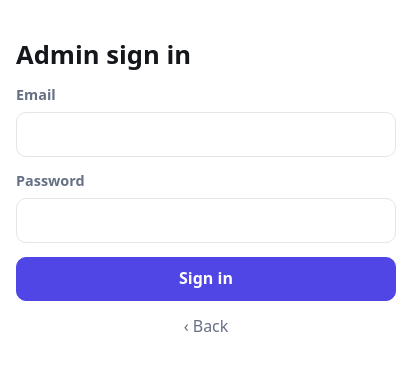
Test: admin sign-in › shows the error and lets you retry
Type "me@band.com" into the field labelled "Email" at x=206, y=134, box [16, 112, 396, 157]
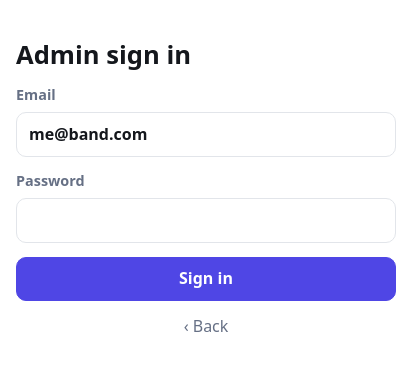
Type "wrong" into the password field labelled "Password" at x=206, y=220, box [16, 198, 396, 243]
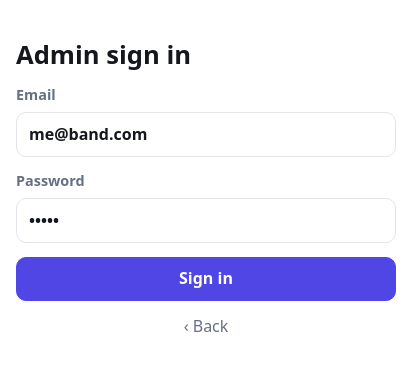
Click the button "Sign in" at x=206, y=279, box [16, 257, 396, 301]
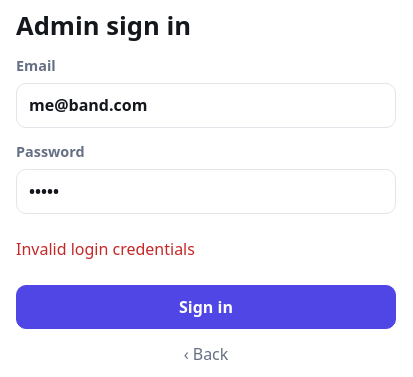
Expected: the button "Sign in" is enabled, [16, 285, 396, 329]
Expected: the message shows "Invalid login", [16, 238, 195, 260]
